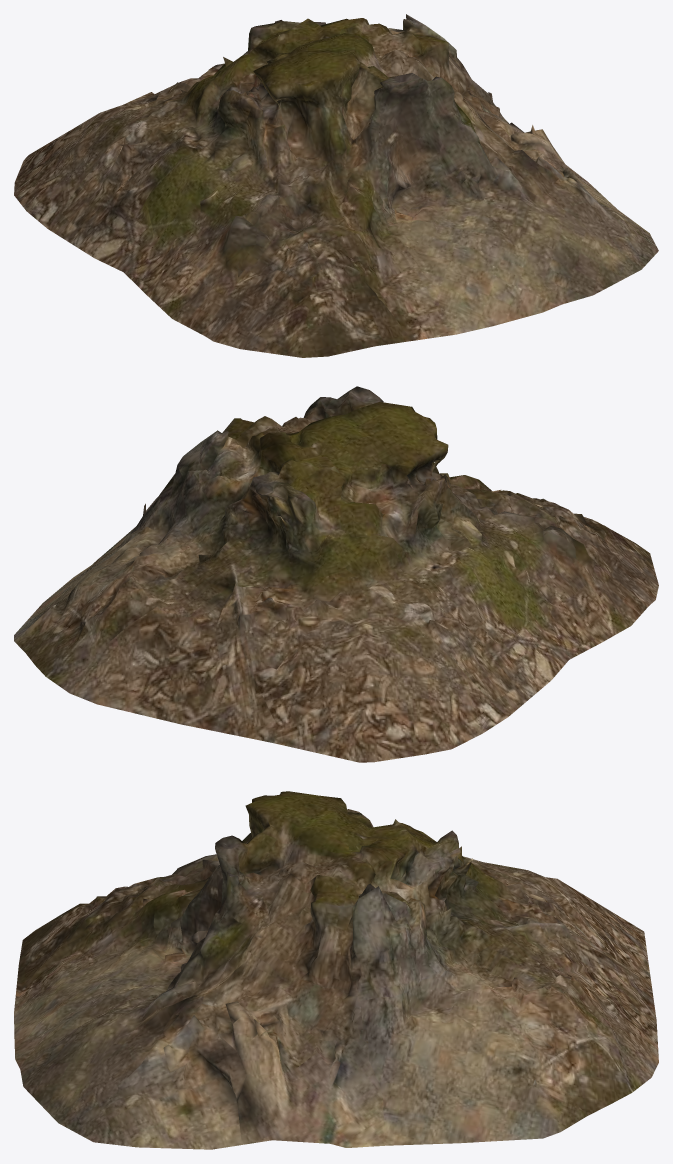
The model's file is tree_stump_01.gltf.
3 renders of one model, top to bottom at view 1: azimuth 30°, elevation 25°; view 2: azimuth 150°, elevation 25°; view 3: azimuth 270°, elevation 25°, orthographic. The views are drawn at different scales.
Visible parts, largest first — view 1: tree_stump_01; view 2: tree_stump_01; view 3: tree_stump_01.
Part boxes in pixels (bbox=[...]): tree_stump_01: bbox=[14, 14, 658, 357]; tree_stump_01: bbox=[14, 386, 658, 762]; tree_stump_01: bbox=[14, 791, 658, 1149].
Size of the model in its own units: 1.43 by 0.57 by 1.59.
1 material, 1 textured.
